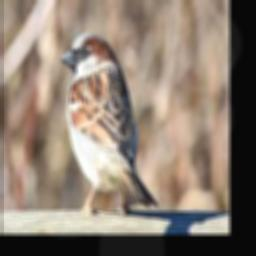Sparrow: (59, 31, 157, 214)
